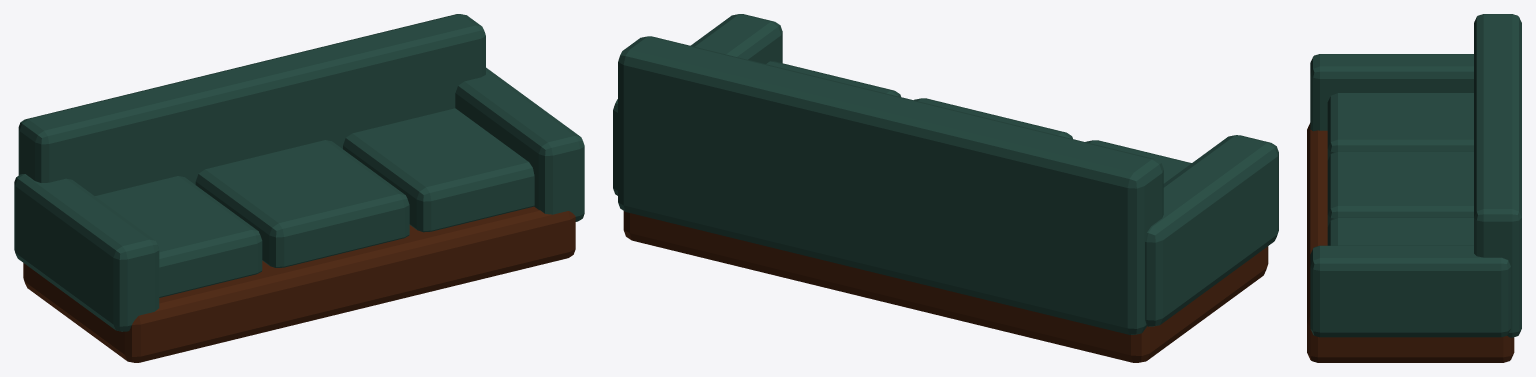
Rendered from Sofa.fbx.
The picture shows the model from 3 angles, left to right: view 1: azimuth 30°, elevation 25°; view 2: azimuth 150°, elevation 25°; view 3: azimuth 270°, elevation 25°; orthographic projection. The views are drawn at different scales.
Parts seen in each view (by area): view 1: Sofa; view 2: Sofa; view 3: Sofa.
Part boxes in pixels (<box>): Sofa: <box>14,14,584,362</box>; Sofa: <box>613,14,1278,362</box>; Sofa: <box>1307,14,1521,362</box>.
Bounding box in the file's own units: 230 × 98.5 × 78.
